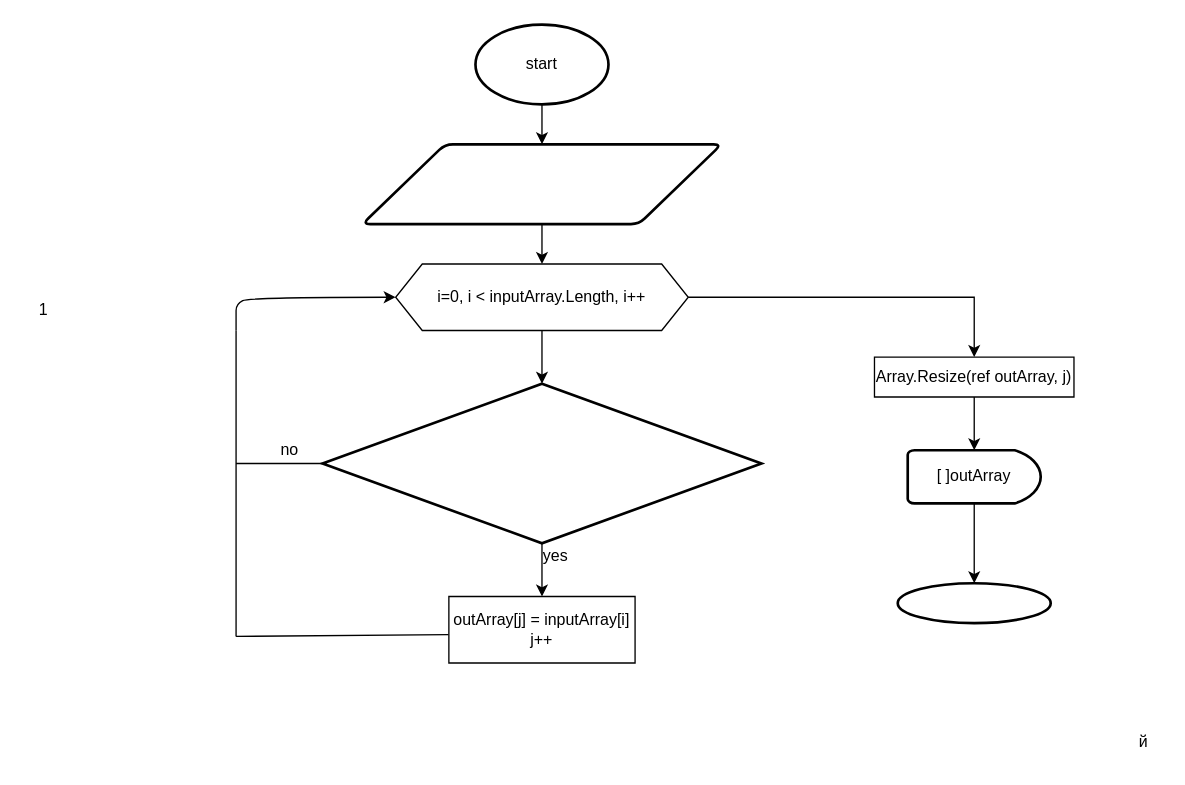
Some shapes in this 1185 by 785 pixel diagram are drawn without their labels. The box of each missing label's shape, as (x1, y1, x2, y2) in pixels:
(inputArray[i].Length <= maxStringSize) && (inputArray[i].Length != 0): (321, 382, 762, 544)
end: (896, 581, 1051, 624)
j=0 [ ]inputArray [ ]outArray maxStringSize=3: (360, 142, 722, 225)
